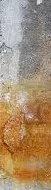Corrosion: (1, 78, 51, 185)
